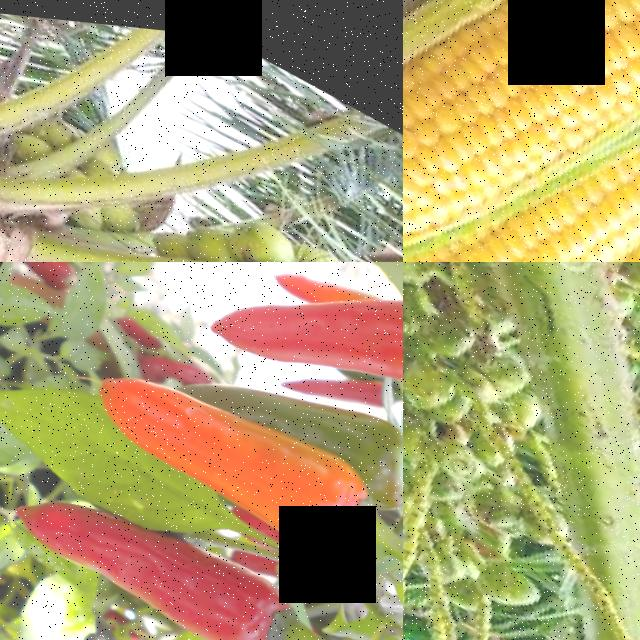chilli: (83, 342, 401, 564), (8, 455, 335, 640), (193, 262, 403, 433)
corn: (403, 0, 640, 262), (529, 46, 640, 262), (515, 0, 640, 125), (403, 168, 551, 262)
